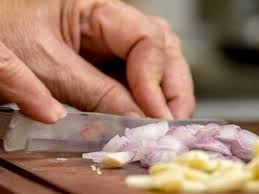kitchen_waste: (166, 124, 229, 152), (218, 118, 259, 156), (96, 135, 140, 169), (125, 119, 174, 143)
metal: (2, 102, 164, 163)
